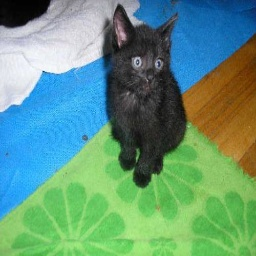cat: (107, 5, 183, 184)
